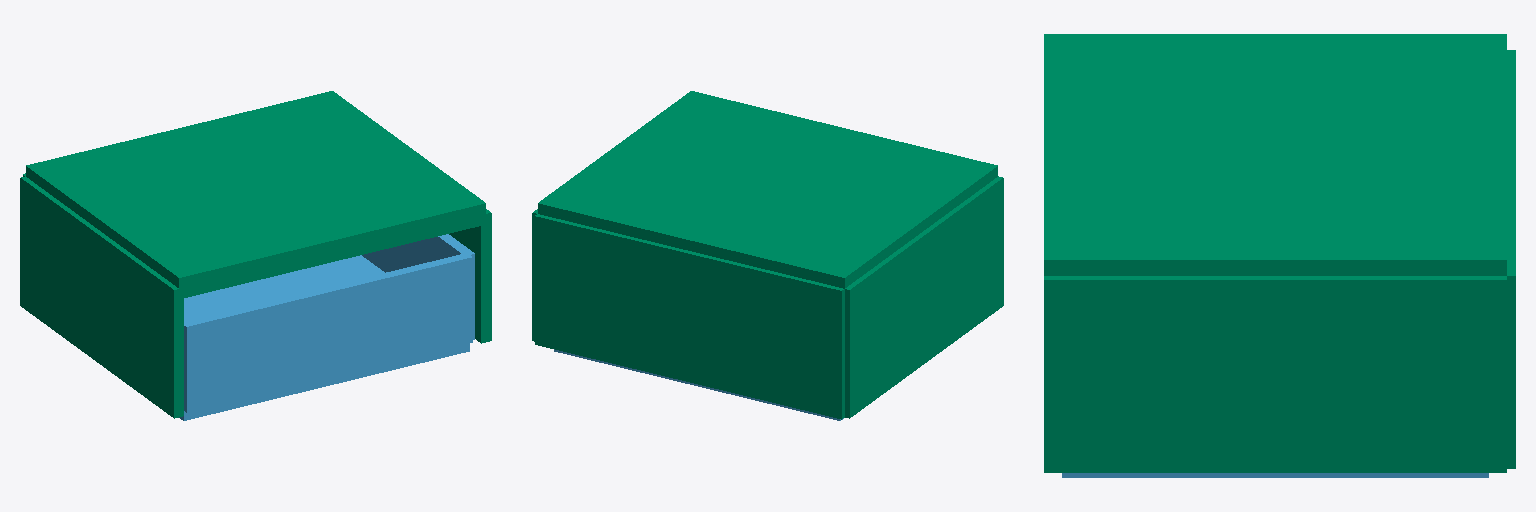
The robot description file, URDF, robot "bowl.urdf":
<?xml version="0.0" ?>
<robot name="bowl.urdf">

  <material name="yellow">
    <color rgba="1 1 0.4 1"/>
  </material>
  <material name="red">
    <color rgba="1 0 0 1"/>
  </material>
  <material name="blue">
    <color rgba=".17 .20 .38 1"/>
  </material>
  <material name="teal">
    <color rgba="0 .5 .5 1"/>
  </material>
  <material name="orange">
    <color rgba=".93 .6 .23 1"/>
  </material>

  <link name="world"/>

  <link name="base">
    <contact>
      <rolling_friction value="10.0"/>
      <lateral_friction value="10.0"/>
      <spinning_friction value="10.0"/>
    </contact>
    <inertial>
      <origin rpy="0 0 0" xyz="0.0 0.0 0.0"/>
       <mass value="0.1"/>
       <inertia ixx="1" ixy="0" ixz="0" iyy="1" iyz="0" izz="1"/>
    </inertial>
    <visual>
      <origin rpy="0 0 0" xyz="0 0 -0.2"/>
      <geometry>
        <box size="1.4 1.2 .1"/>
      </geometry>
    </visual>
    <visual>
      <!-- right -->
      <origin rpy="0 0 0" xyz="0 -.6 0"/>
      <geometry>
        <box size="1.4 .05 0.4"/>
      </geometry>
    </visual>
    <visual>
      <!-- left -->
      <origin rpy="0 0 0" xyz="0 .6 0"/>
      <geometry>
        <box size="1.4 .05 0.4"/>
      </geometry>
    </visual>
    <visual>
      <!-- front -->
      <origin rpy="0 0 0" xyz=".7 0 0"/>
      <geometry>
        <box size=".05 1.2 0.4"/>
      </geometry>
    </visual>
    <visual>
      <!-- back -->
      <origin rpy="0 0 0" xyz="-.7 0 0"/>
      <geometry>
        <box size=".05 1.2 0.4"/>
      </geometry>
    </visual>

    <collision>
      <!--Bottom --> 
      <origin rpy="0 0 0" xyz="0 0 -.2"/>
      <geometry>
        <box size="1.4 1.2 .1"/>
      </geometry>
    </collision>
    <collision>
      <!-- right -->
      <origin rpy="0 0 0" xyz="0 -.6 0"/>
      <geometry>
        <box size="1.4 .05 0.4"/>
      </geometry>
    </collision>
    <collision>
      <!-- left -->
      <origin rpy="0 0 0" xyz="0 .6 0"/>
      <geometry>
        <box size="1.4 .05 0.4"/>
      </geometry>
    </collision>
    <collision>
      <!-- front -->
      <origin rpy="0 0 0" xyz=".7 0 0"/>
      <geometry>
        <box size=".05 1.2 0.4"/>
      </geometry>
    </collision>
    <collision>
      <!-- back -->
      <origin rpy="0 0 0" xyz="-.7 0 0"/>
      <geometry>
        <box size=".05 1.2 0.4"/>
      </geometry>
    </collision>
  </link>

  <link name="frame">
    <contact>
      <lateral_friction value="0.5"/>
      <rolling_friction value="0.0"/>
      <contact_cfm value="0.0"/>
      <contact_erp value="1.0"/>
    </contact>
    <inertial>
      <origin rpy="0 0 0" xyz="0.0 0.0 0.0"/>
       <mass value=".1"/>
       <inertia ixx="1" ixy="0" ixz="0" iyy="1" iyz="0" izz="1"/>
    </inertial>
    <visual>
      <!--Top-->
      <origin rpy="0 0 0" xyz="0 0 .3"/>
      <geometry>
        <box size="1.5 1.3 .1"/>
      </geometry>
    </visual>
    <visual>
      <!--Right-->
      <origin rpy="0 0 0" xyz="0 .65 0"/>
      <geometry>
        <box size="1.5 .05 .6"/>
      </geometry>
    </visual>
    <visual>
      <!--Front-->
      <origin rpy="0 0 0" xyz=".75 0 0"/>
      <geometry>
        <box size=".05 1.3 .6"/>
      </geometry>
    </visual>
    <visual>
      <!--Back-->
      <origin rpy="0 0 0" xyz="-.75 0 0"/>
      <geometry>
        <box size=".05 1.3 .6"/>
      </geometry>
    </visual>

    <collision>
      <!--Top-->
      <origin rpy="0 0 0" xyz="0 0 .3"/>
      <geometry>
        <box size="1.5 1.3 .1"/>
      </geometry>
    </collision>
    <collision>
      <!--Right-->
      <origin rpy="0 0 0" xyz="0 .65 0"/>
      <geometry>
        <box size="1.5 .05 .6"/>
      </geometry>
    </collision>
    <collision>
      <!--Front-->
      <origin rpy="0 0 0" xyz=".75 0 0"/>
      <geometry>
        <box size=".05 1.3 .6"/>
      </geometry>
    </collision>
    <collision>
      <!--Back-->
      <origin rpy="0 0 0" xyz="-.75 0 0"/>
      <geometry>
        <box size=".05 1.3 .6"/>
      </geometry>
    </collision>
  </link>

  <joint name="frame_joint" type="fixed">
    <parent link="world"/>
    <child link="frame"/>
  </joint>

  <joint name="base_frame_joint" type="prismatic">
    <origin rpy="0 0 0" xyz="0 0 -.1"/>
    <parent link="frame"/>
    <child link="base"/>
    <axis rpy="0 0 0" xyz="0 1 0"/>
    <limit effort="100" lower="-1.25" upper="0" velocity="100"/>
    <dynamics damping="0.0" friction=".01"/>
  </joint>

</robot>

--- What the picture shows (computed from the rendered views, not written in the file) ---
3 views of the same robot in one strip: view 1: azimuth 30°, elevation 25°; view 2: azimuth 150°, elevation 25°; view 3: azimuth 270°, elevation 25° (orthographic).
Model bowl.urdf with 3 links and 2 joints (1 prismatic, 1 fixed), rooted at world, posed every joint at zero.
Links seen in each view (by area): view 1: frame, base; view 2: frame, base; view 3: frame, base.
Boxes of the visible links, x1,y1,x2,y2 form: frame: (20, 91, 491, 418); base: (179, 234, 474, 420); frame: (532, 91, 1003, 419); base: (554, 349, 843, 420); frame: (1044, 34, 1515, 472); base: (1062, 473, 1488, 477).
Bounding box of the posed robot: 1.55 × 1.32 × 0.7 m (x, y, z).
Geometry: primitives only (box / cylinder / sphere), no mesh files.